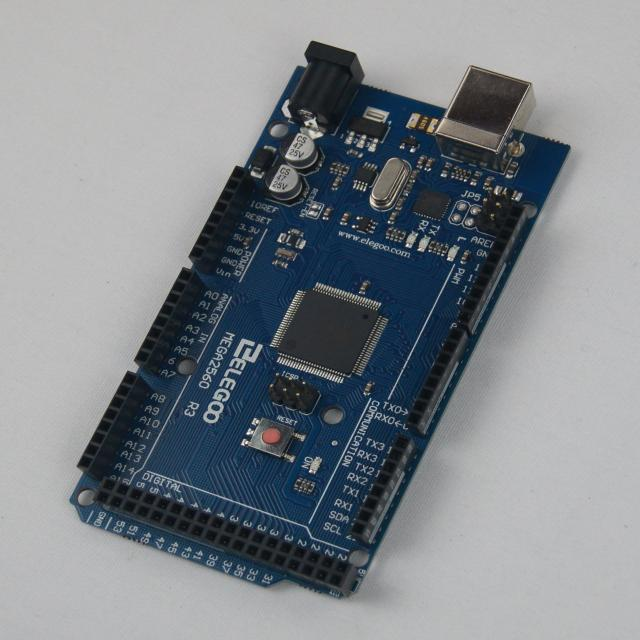Arduino Mega 2560 -Blue-: (71, 42, 570, 598)
